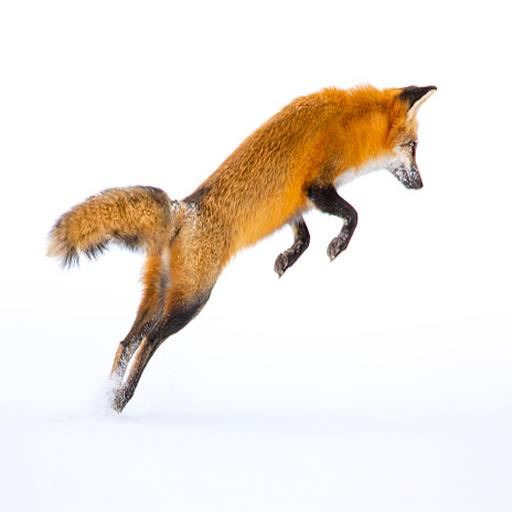Fox: (35, 82, 444, 422)
